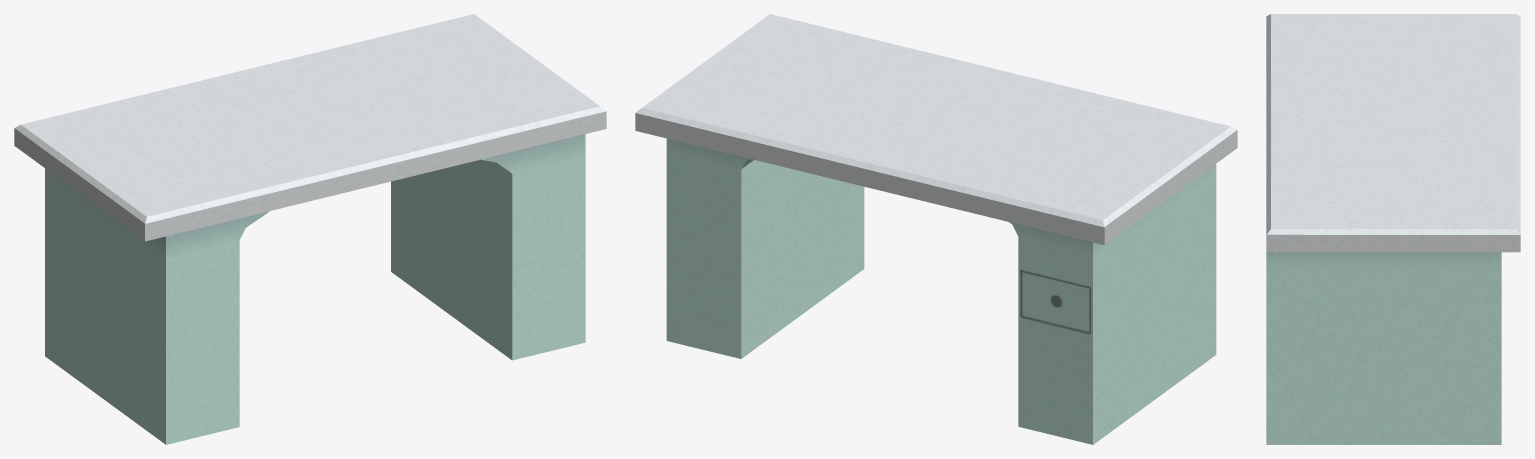
The model's file is SovietDesk.glb.
3 renders of one model, left to right at view 1: azimuth 30°, elevation 25°; view 2: azimuth 150°, elevation 25°; view 3: azimuth 270°, elevation 25°, orthographic. The views are drawn at different scales.
Visible parts, largest first — view 1: Table; view 2: Table; view 3: Table.
Part boxes in pixels (bbox=[...]): Table: bbox=[14, 14, 606, 444]; Table: bbox=[635, 14, 1237, 444]; Table: bbox=[1266, 14, 1520, 444].
Size of the model in its own units: 2.2 by 1.05 by 1.08.
1 material, 1 textured.
